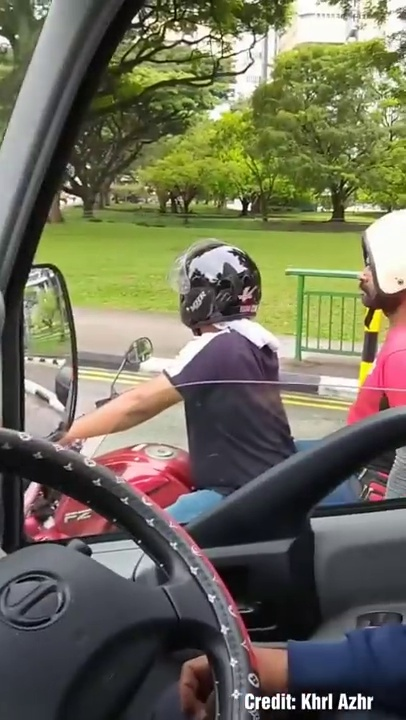helmet: (157, 232, 268, 320), (360, 204, 404, 296)
